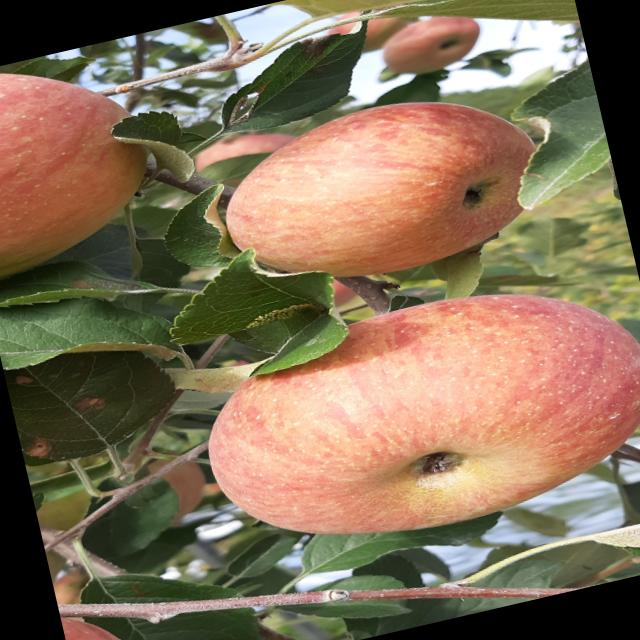fresh: (167, 255, 640, 583), (197, 69, 562, 311)
